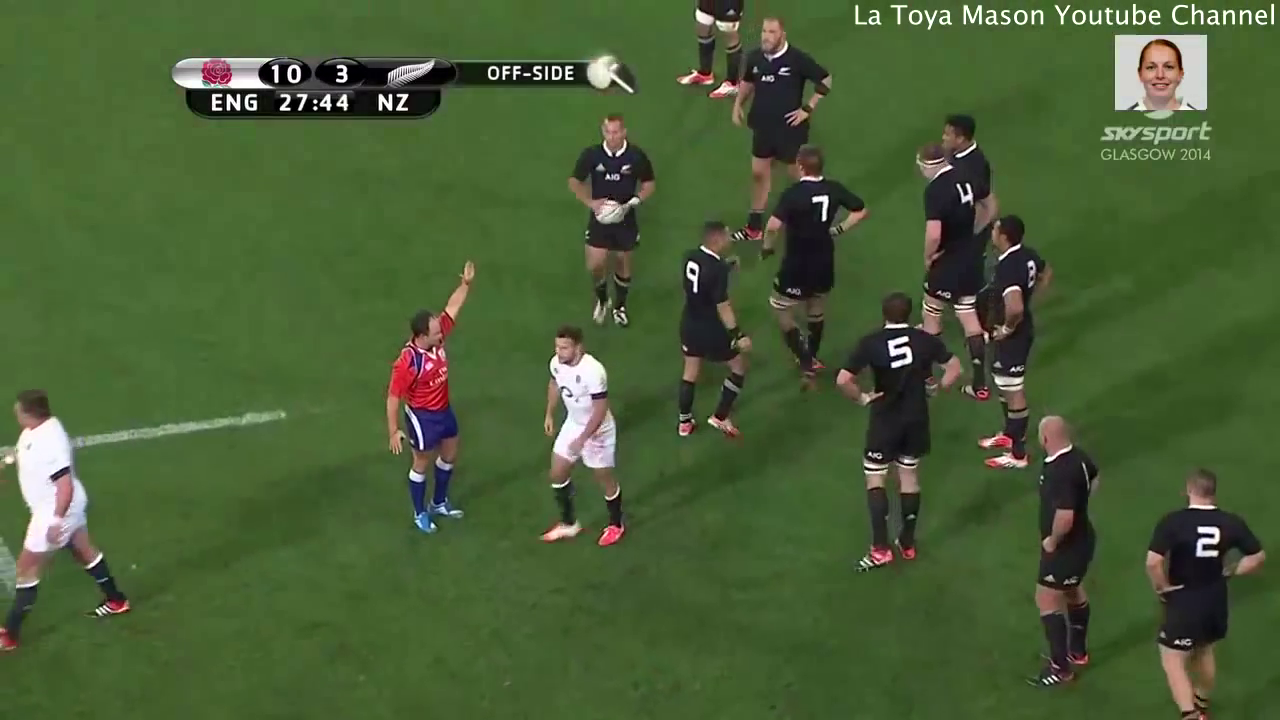ball: (585, 187, 630, 237)
player: (825, 280, 968, 595), (1116, 454, 1271, 720), (1, 383, 139, 662), (376, 256, 497, 544), (755, 140, 877, 406), (722, 13, 845, 247), (520, 320, 636, 560), (1020, 403, 1106, 703), (903, 140, 1000, 402), (968, 205, 1057, 487), (561, 106, 665, 346), (662, 214, 762, 452), (933, 103, 1009, 249), (673, 1, 755, 113)
